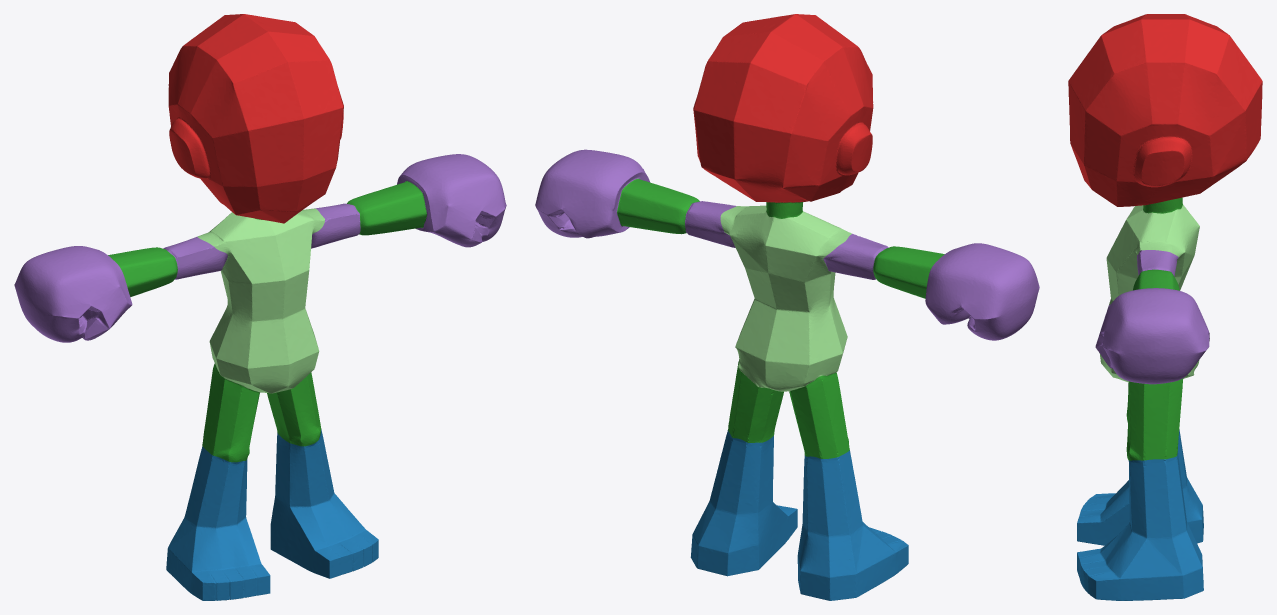
The model's file is meshy-figure-source.glb.
3 renders of one model, left to right at view 1: azimuth 30°, elevation 25°; view 2: azimuth 150°, elevation 25°; view 3: azimuth 270°, elevation 25°, orthographic. The views are drawn at different scales.
Visible parts, largest first — view 1: model_part4, model_part5, model_part3, model_part9, model_part0, model_part12, model_part6, model_part11, model_part8, model_part1, model_part2, model_part10; view 2: model_part4, model_part5, model_part3, model_part9, model_part0, model_part12, model_part6, model_part11, model_part8, model_part1, model_part2, model_part10; view 3: model_part4, model_part9, model_part12, model_part5, model_part8, model_part3, model_part10, model_part11, model_part7.
Boxes of the visible parts, x1,y1,x2,y2 form: model_part4: [168, 14, 343, 223]; model_part5: [197, 208, 324, 393]; model_part3: [166, 446, 270, 600]; model_part9: [270, 429, 378, 578]; model_part0: [14, 246, 132, 342]; model_part12: [397, 154, 506, 247]; model_part6: [202, 364, 259, 462]; model_part11: [347, 181, 426, 235]; model_part8: [267, 372, 321, 446]; model_part1: [108, 247, 177, 296]; model_part2: [163, 237, 227, 279]; model_part10: [311, 203, 360, 248]; model_part4: [693, 14, 873, 202]; model_part5: [720, 205, 851, 391]; model_part3: [797, 450, 908, 600]; model_part9: [690, 430, 797, 576]; model_part0: [925, 243, 1039, 340]; model_part12: [535, 149, 650, 238]; model_part6: [789, 372, 849, 458]; model_part11: [617, 178, 699, 234]; model_part8: [728, 359, 783, 442]; model_part1: [873, 246, 944, 298]; model_part2: [823, 233, 888, 279]; model_part10: [685, 201, 736, 247]; model_part4: [1068, 14, 1262, 206]; model_part9: [1077, 450, 1203, 600]; model_part12: [1095, 288, 1209, 384]; model_part5: [1099, 204, 1199, 382]; model_part8: [1126, 378, 1183, 460]; model_part3: [1077, 429, 1203, 545]; model_part10: [1137, 250, 1178, 276]; model_part11: [1133, 269, 1179, 290]; model_part7: [1143, 197, 1182, 213].
Bounding box in the file's own units: 0.1091 × 0.12 × 0.0391.
